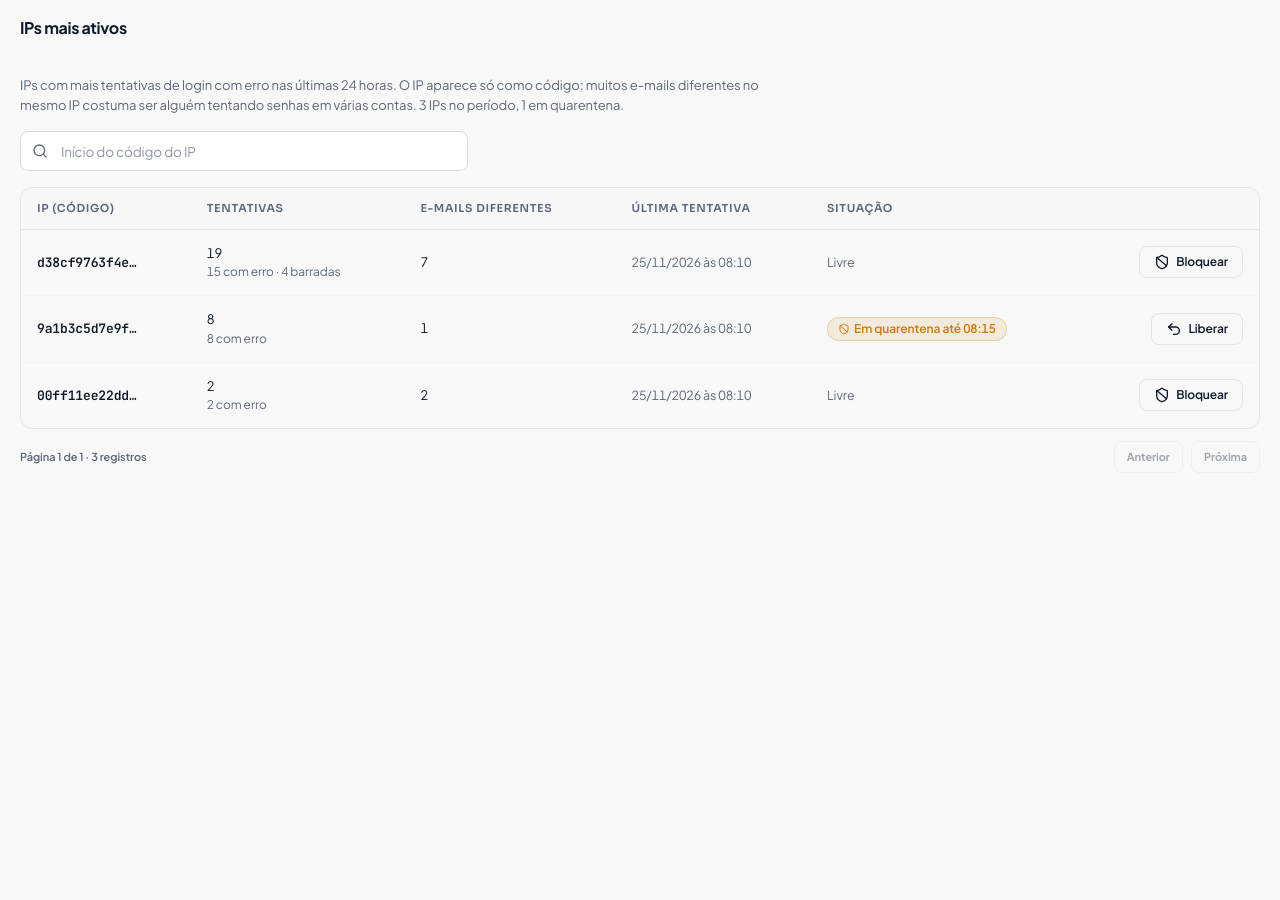
Test case: IpsPanel › erro do servidor no bloqueio fica no popup e nada é anunciado como feito
Expected: the table is shown, [21,188,1259,428]
Click the button with aria-label "Colocar o IP 00ff11ee22dd… em quarentena": (1191, 395) [1139,379,1243,411]
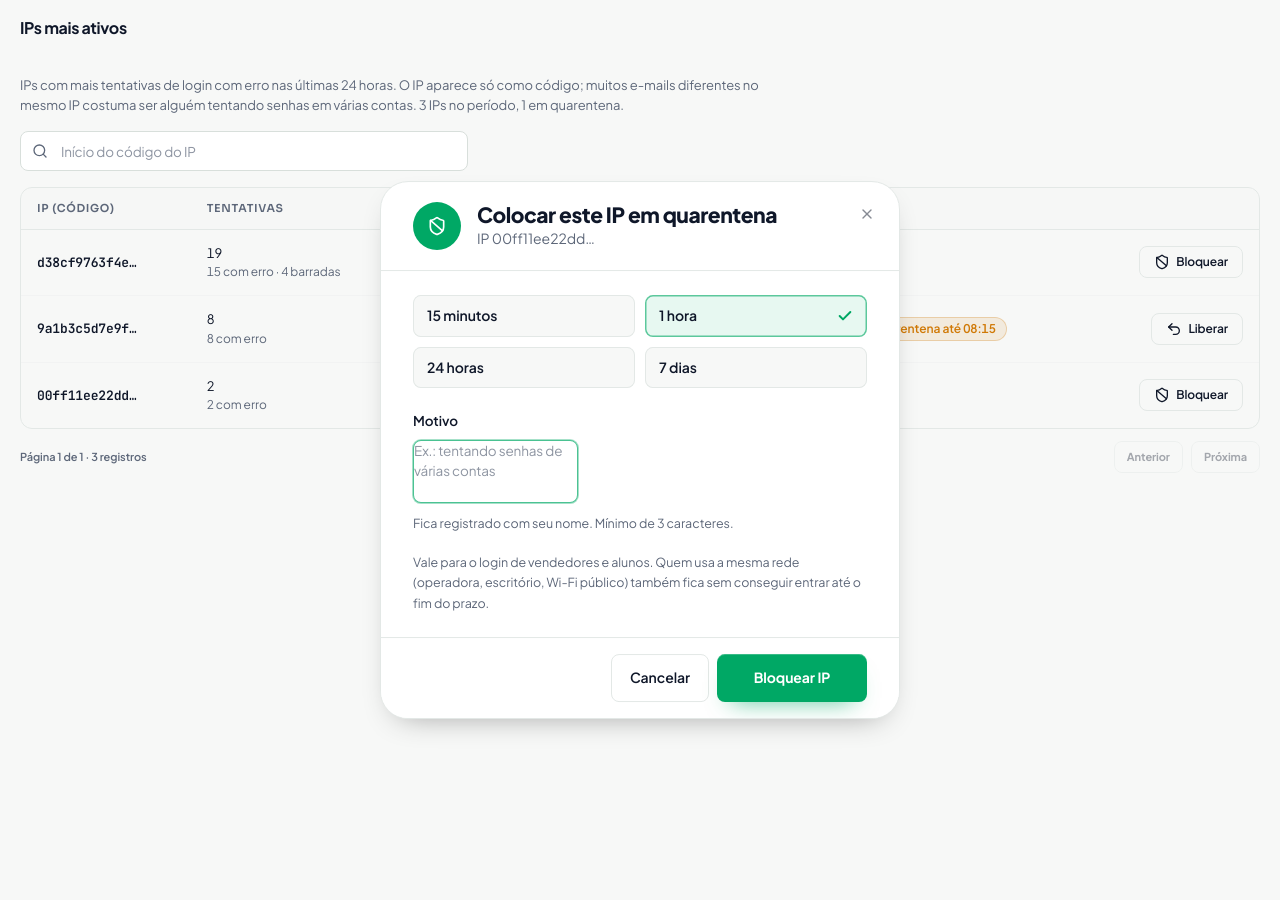
In the text box labelled "Motivo": (496, 472) [413,440,578,503], type "teste"
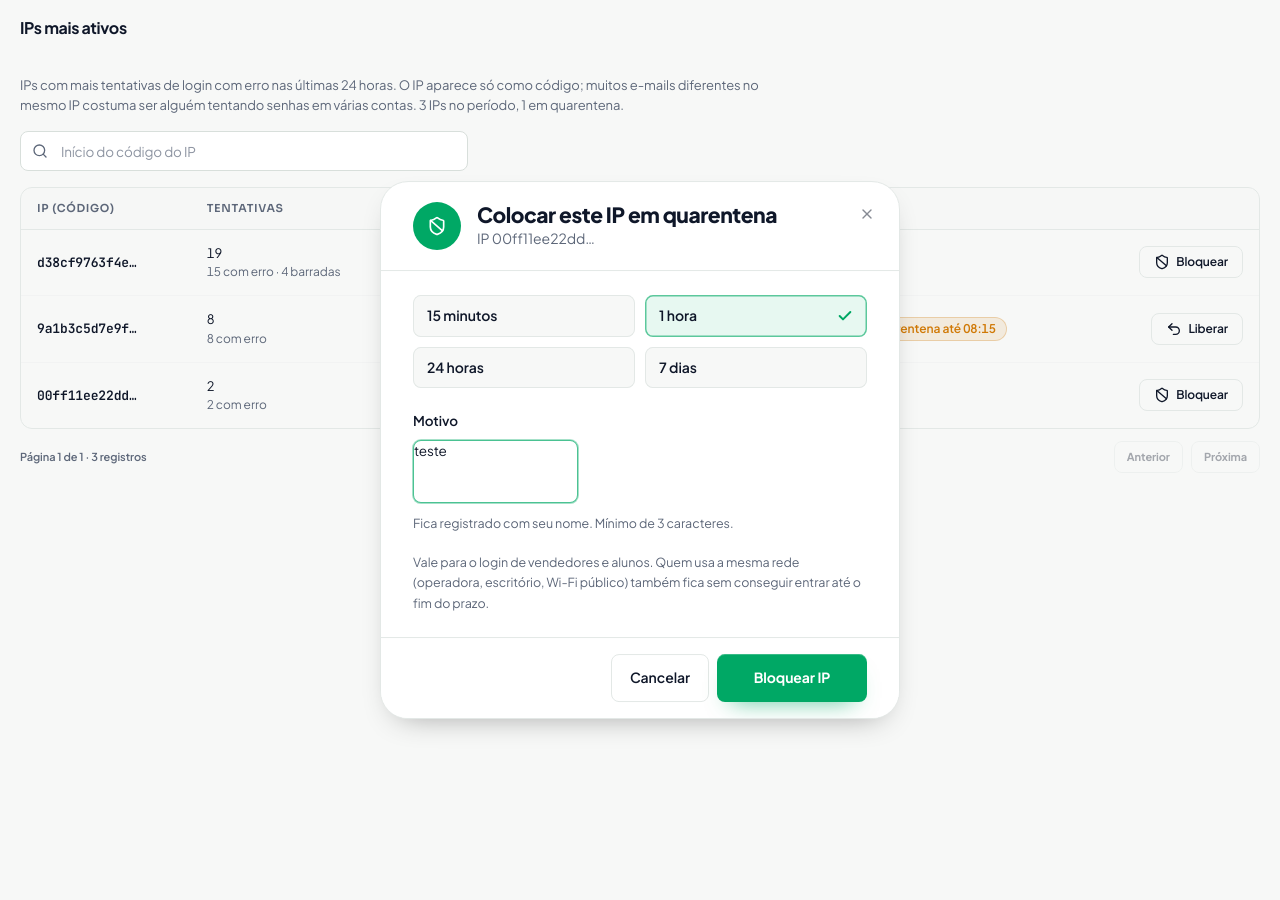
Click the button "Bloquear IP": (792, 678) [717,654,867,702]
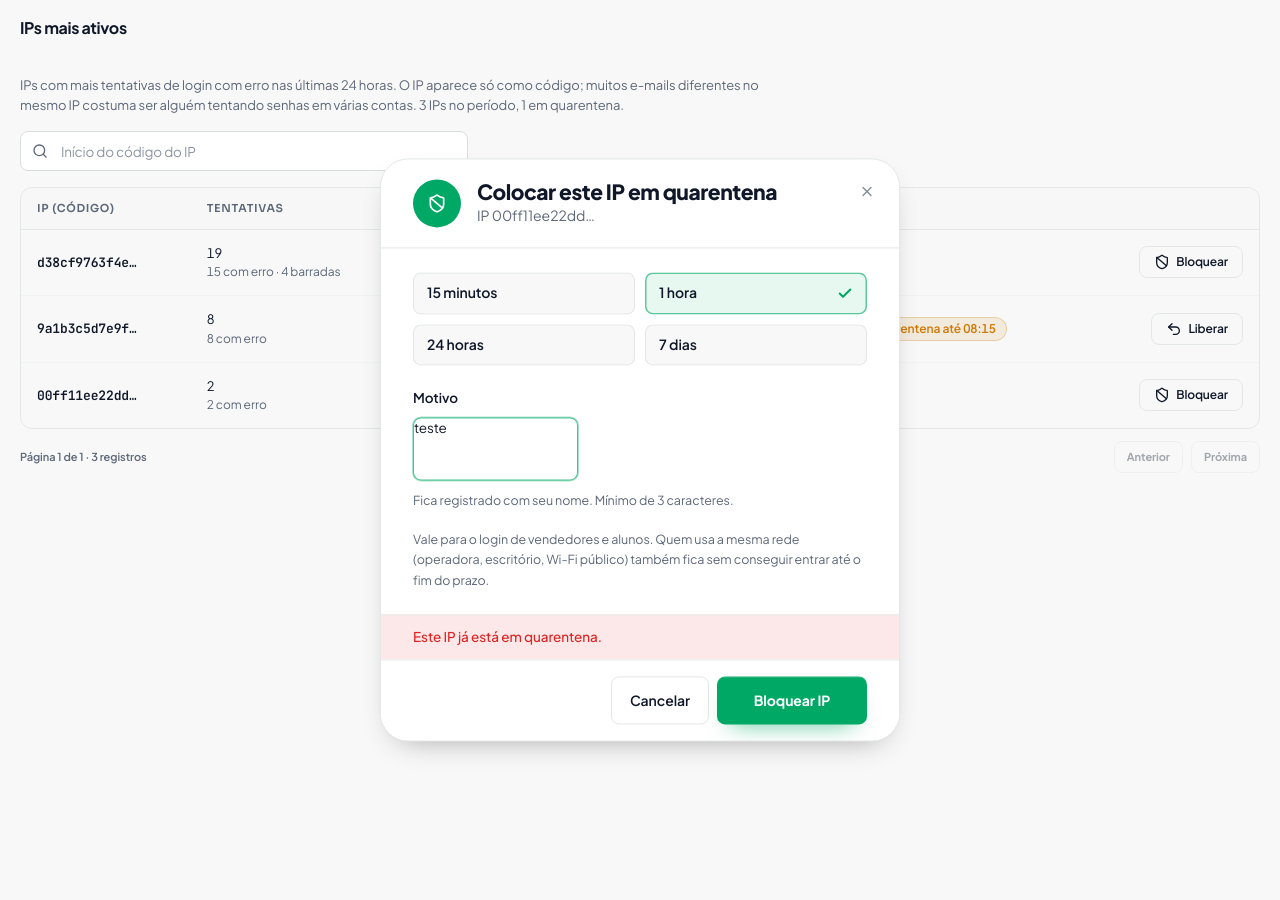
Expected: the dialog is shown, [380,158,900,742]
Expected: the text "Este IP já está em quarentena." is shown, [381,614,899,660]
